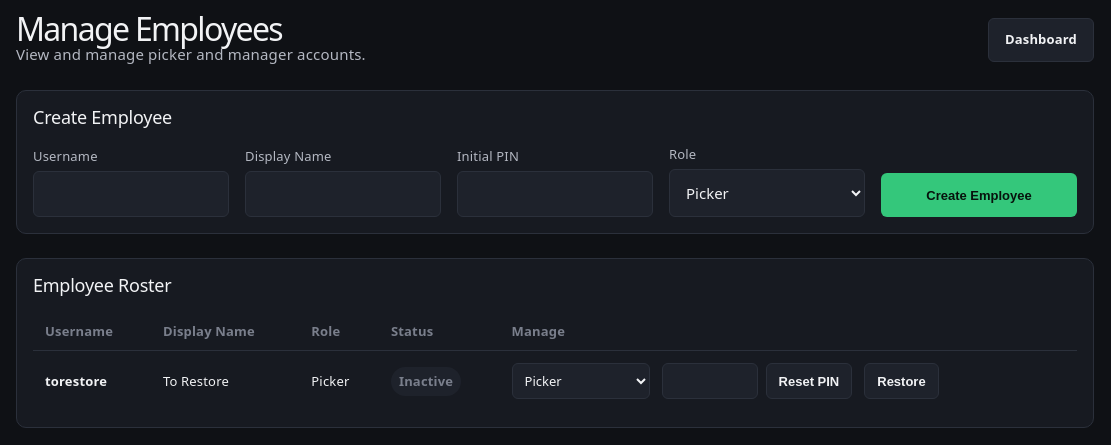
AdminPage › restores an inactive employee and shows them as active afterward
What coordinates should you click on to do the following:
click the button "Restore"
I would click on:
 (902, 382)
Its box is [864, 364, 939, 400].
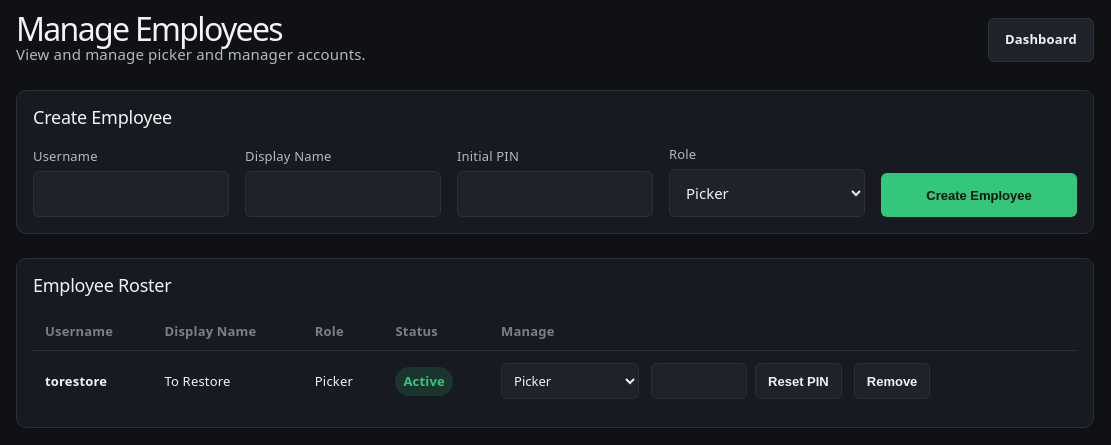
Expected: the text "Active" is shown, [396, 367, 453, 396]
